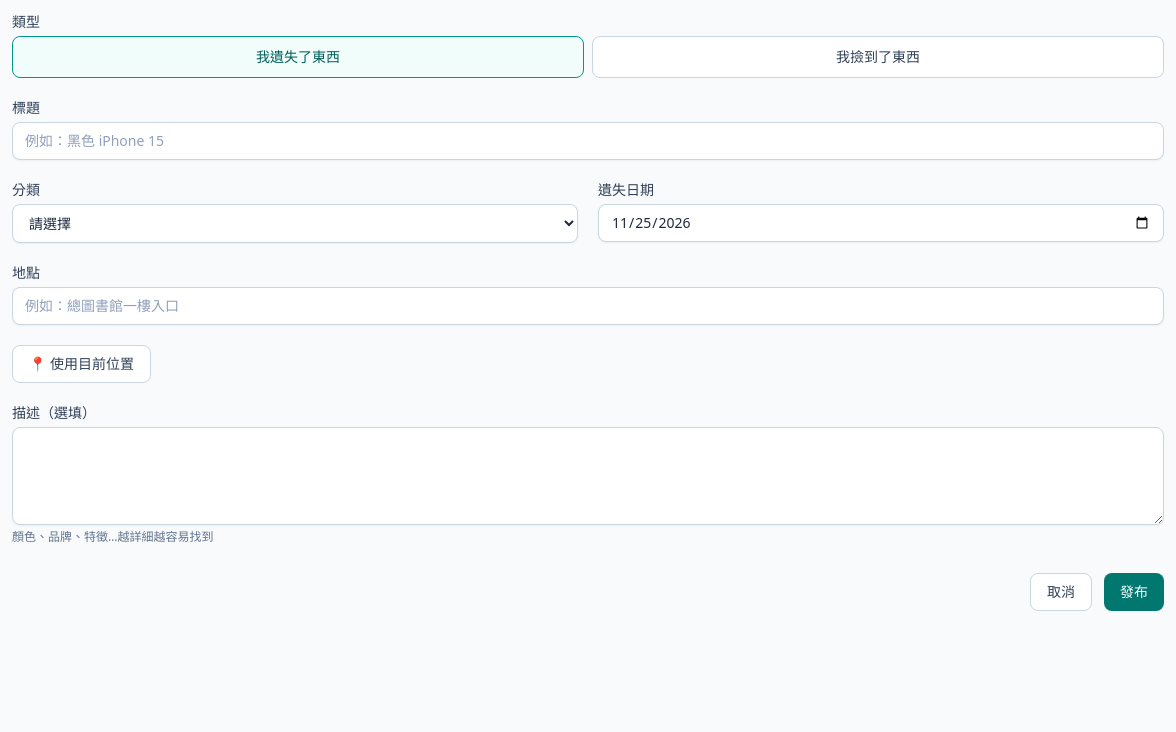
Test: ItemForm › asks for a verification question only on "found" posts
The width and height of the screenshot is (1176, 732).
Check: the field labelled "驗證問題" is not shown
What coordinates should you click on to do the following:
click the radio button "我撿到了東西"
I would click on:
 (878, 57)
Its box is [592, 36, 1164, 78].
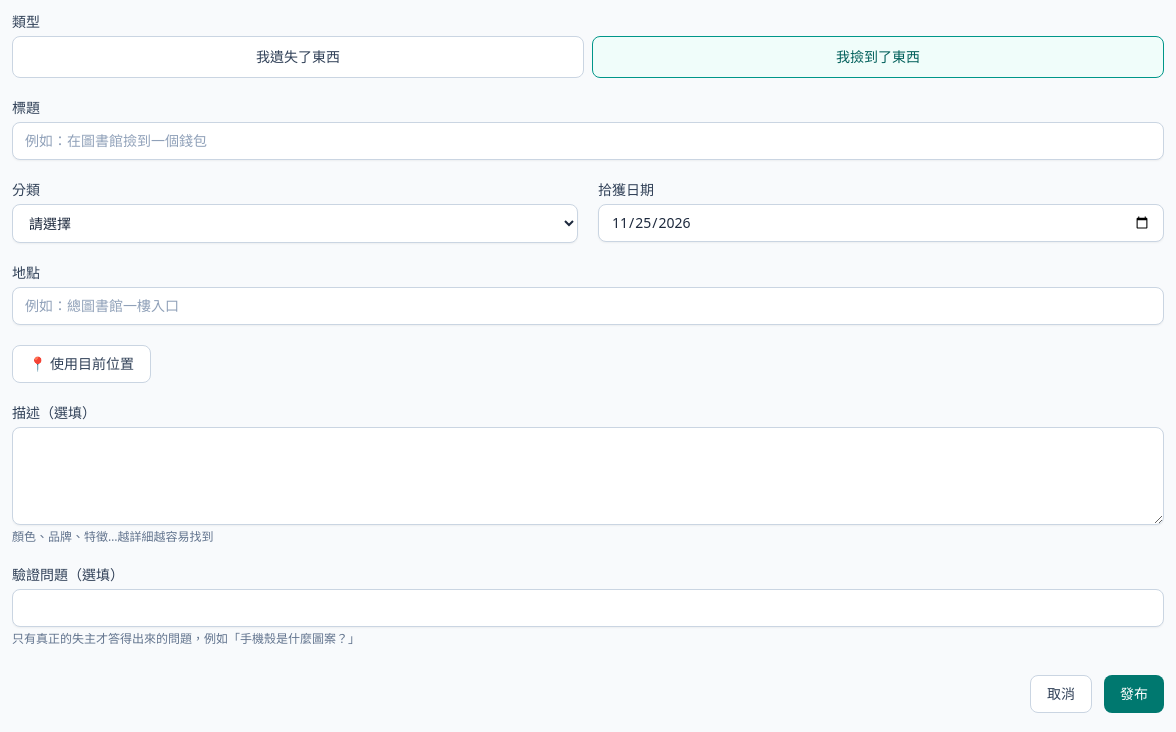
Check: the field labelled "驗證問題（選填）" is shown, box [12, 589, 1164, 627]
